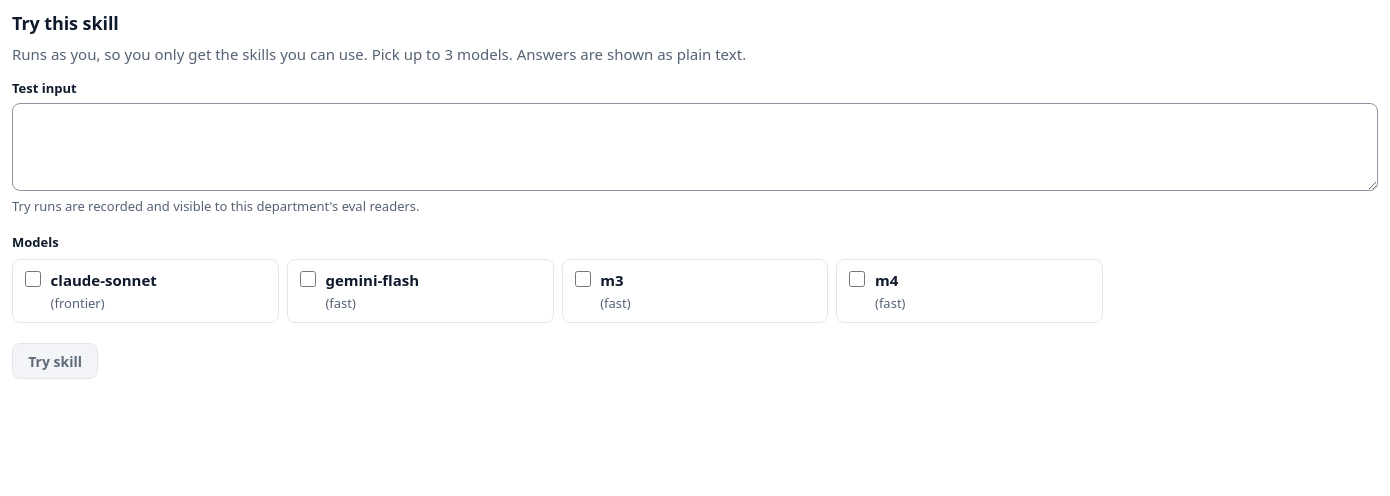
Test: TryPanel › shows a reason code when the run fails
Type "audit this" into the text box labelled "Test input" at {"x": 695, "y": 147}, box [12,103,1378,191]
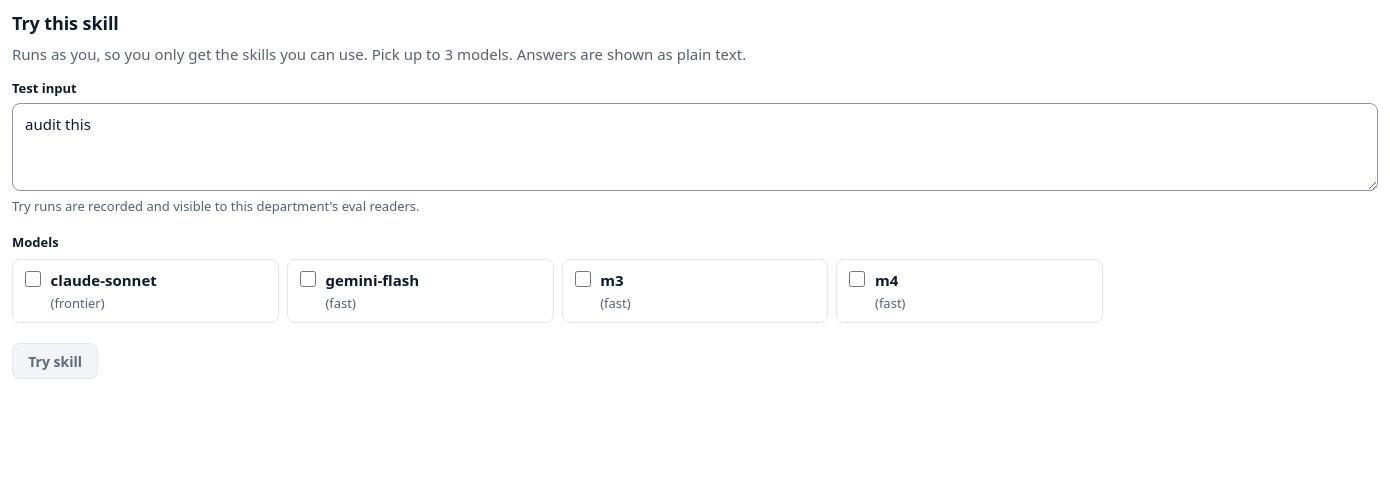
Click the checkbox labelled "claude-sonnet" at {"x": 33, "y": 279}, box [25,271,41,287]
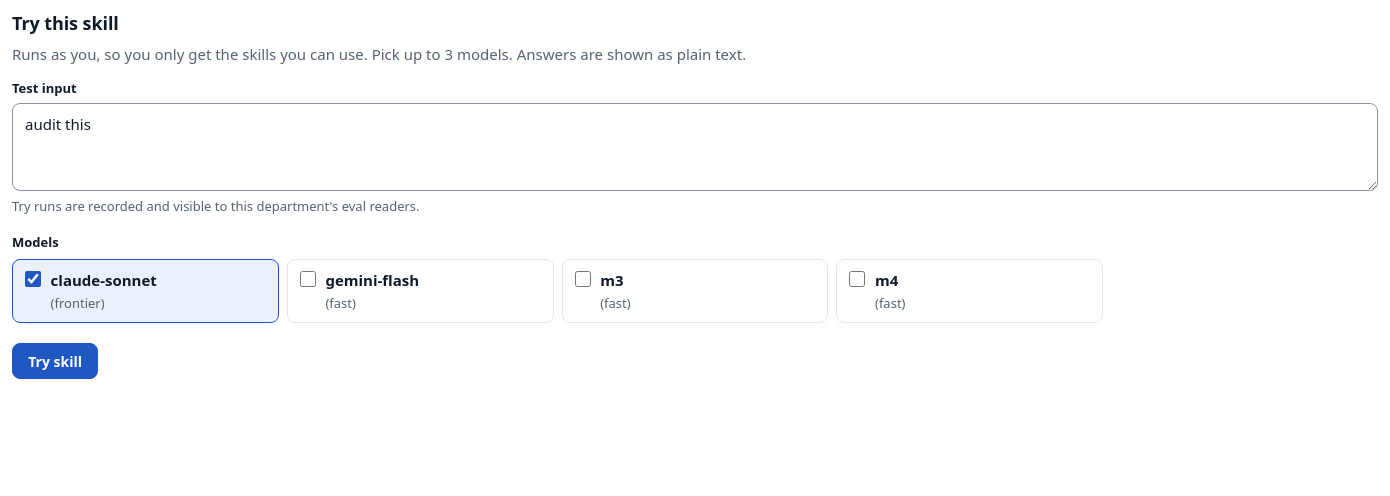
Click the button "Try skill" at {"x": 55, "y": 361}, box [12,343,98,379]
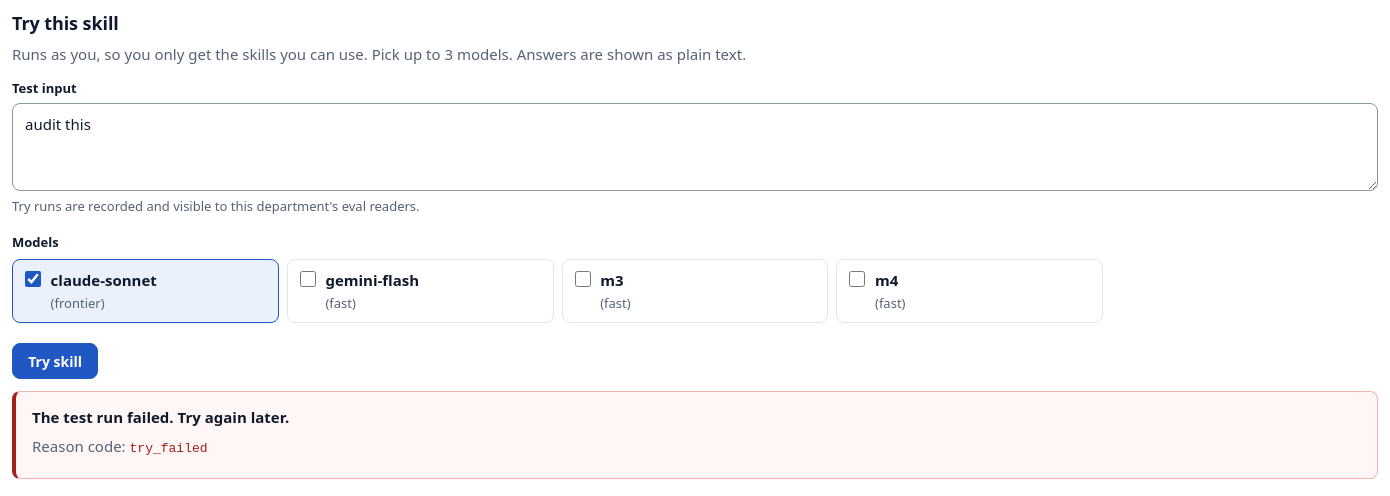
Expected: the message shows "try_failed", [130,441,208,456]
